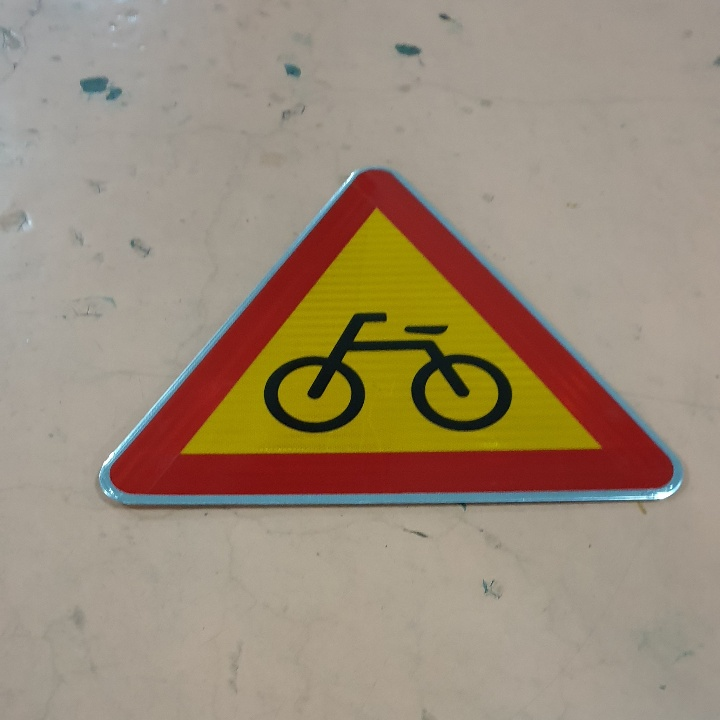bicycle: (102, 164, 679, 498)
